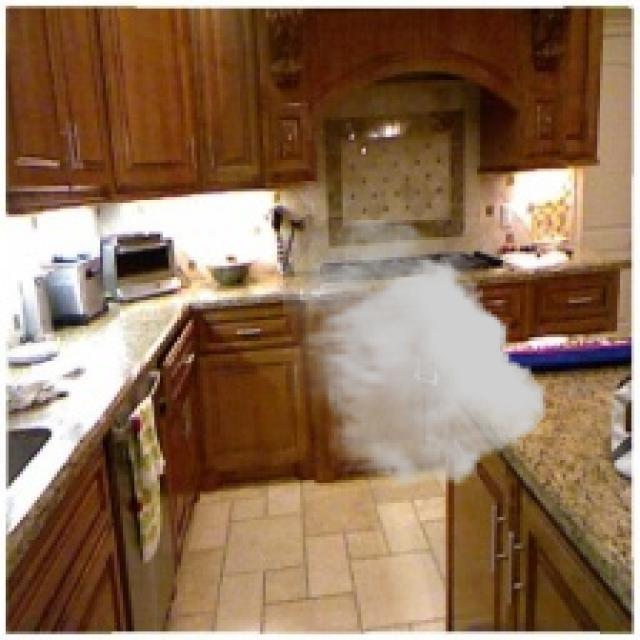Smoke: (283, 220, 546, 489)
